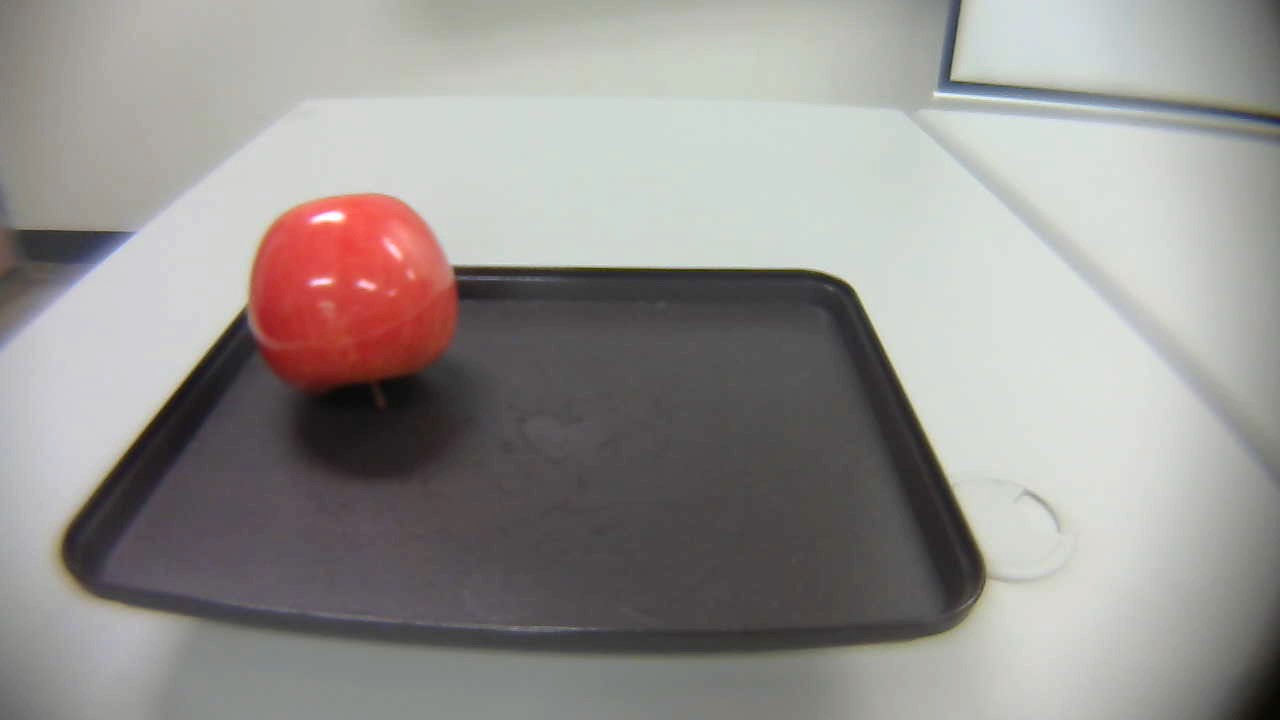red apple: (231, 188, 493, 419)
